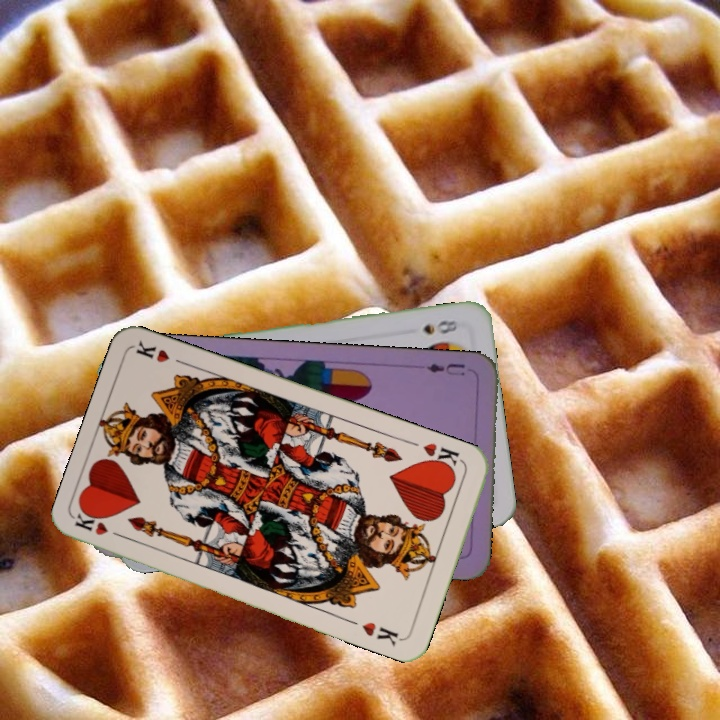EU: (423, 359, 468, 378)
HK: (72, 510, 131, 542), (418, 439, 462, 474)
S8: (419, 316, 462, 338)
